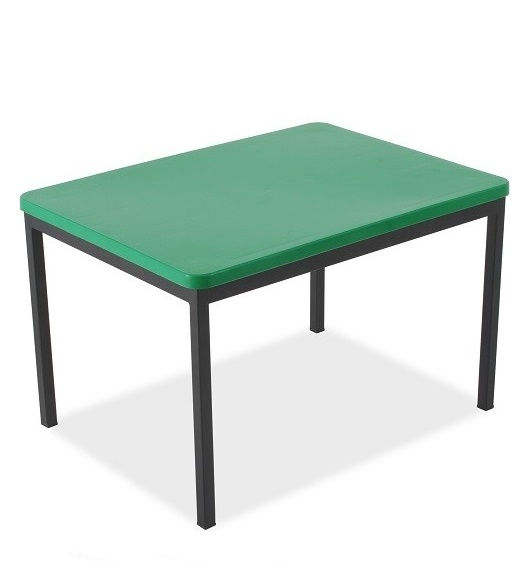m01: (19, 121, 510, 529)
